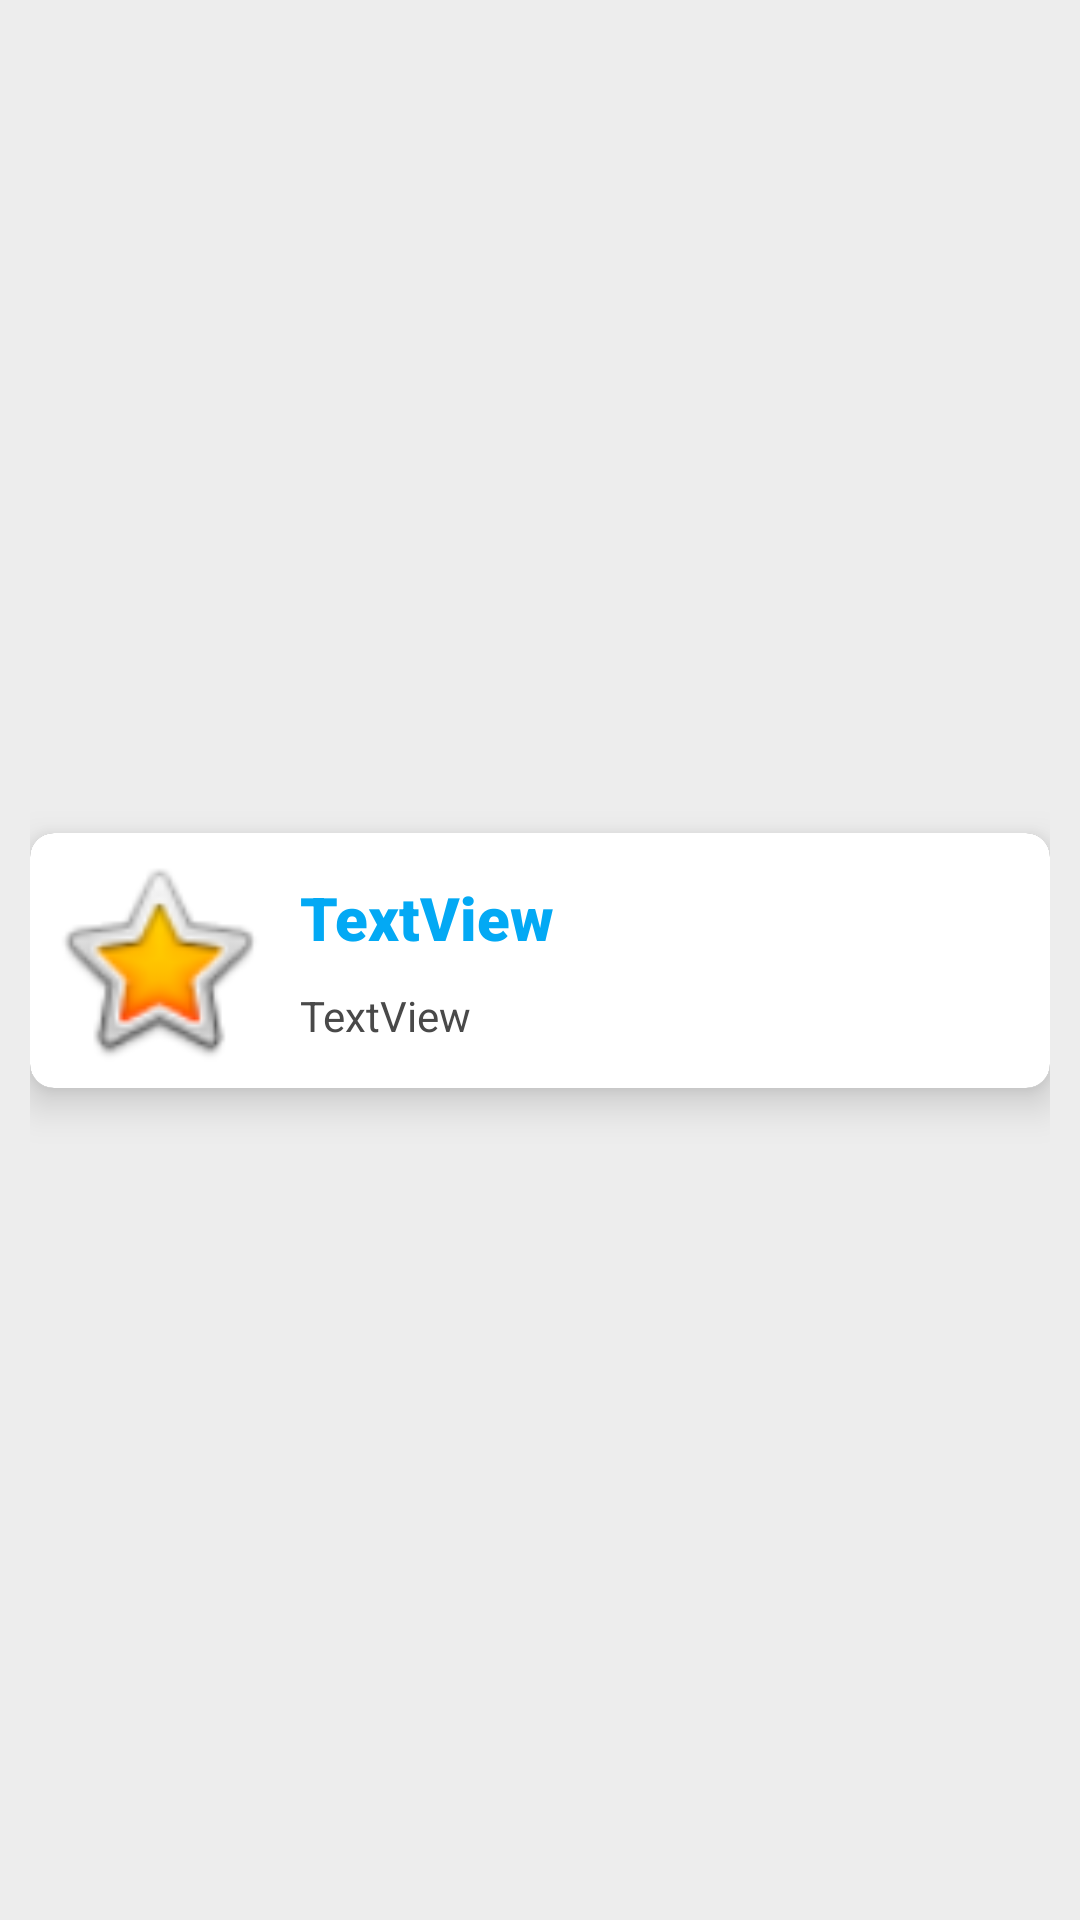

Icons on this 1080*1920 Android screen, each with its box as (x1, y1, x2, y2):
star on: (65, 871, 254, 1054)
